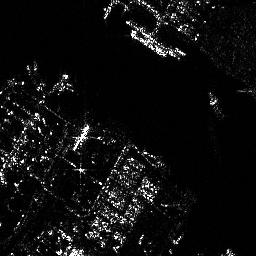ship: (127, 28, 167, 57)
